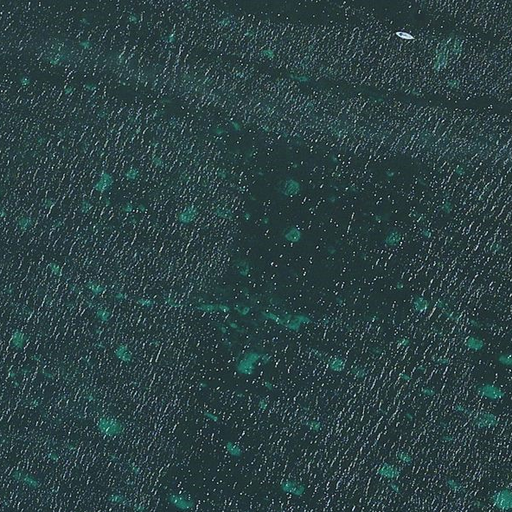ship: (393, 28, 416, 43)
